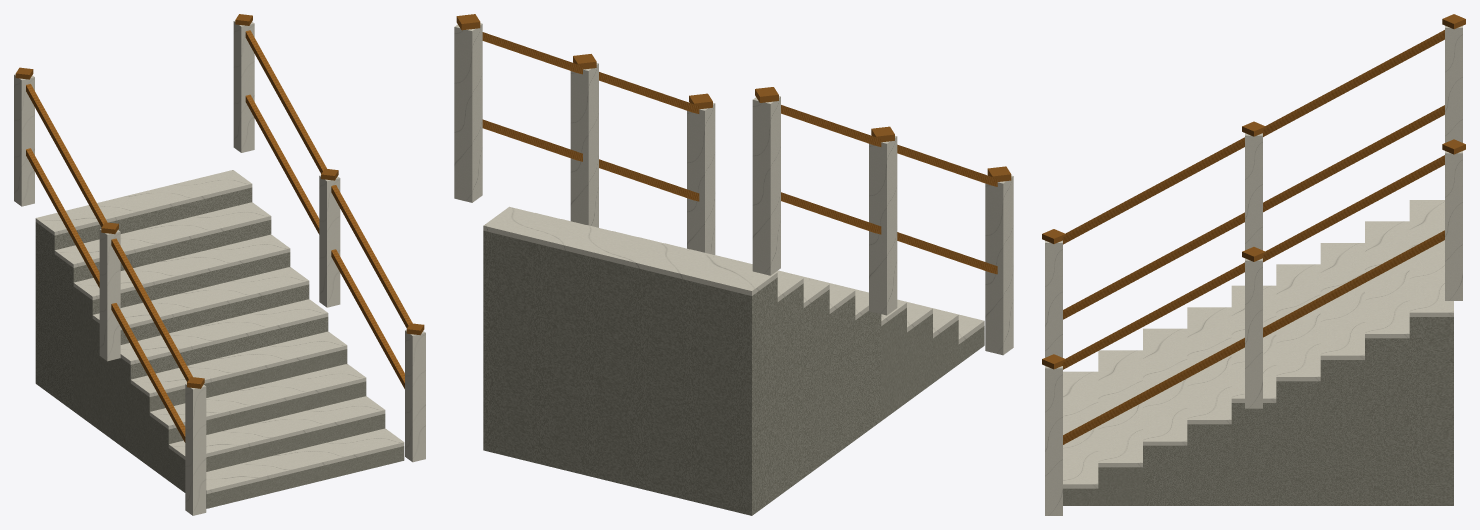
3 views of the same model, side by side, from view 1: azimuth 30°, elevation 25°; view 2: azimuth 150°, elevation 25°; view 3: azimuth 270°, elevation 25° (orthographic). The views are drawn at different scales.
Parts seen in each view (by area): view 1: LOD2__Stone stair tread and riser.008, LOD2__Stone stair tread and riser.007, LOD2__Stone stair tread and riser.006, LOD2__Stone stair tread and riser.004, LOD2__Stone stair tread and riser.005, LOD2__Replaceable marble tread, LOD2__Replaceable marble tread.008, LOD2__Replaceable marble tread.003, LOD2__Replaceable marble tread.004, LOD2__Replaceable marble tread.001, LOD2__Stone stair tread and riser.003, LOD2__Replaceable marble tread.002 (+16 smaller); view 2: LOD2__Stone stair tread and riser.008, LOD2__Replaceable marble tread.008, LOD2__Stone stair tread and riser.007, LOD2__Outside-route guard post.005, LOD2__Outside-route guard post.002, LOD2__Outside-route guard post, LOD2__Outside-route guard post.001, LOD2__Stone stair tread and riser.006, LOD2__Outside-route guard post.004, LOD2__Outside-route guard post.003, LOD2__Stone stair tread and riser.005, LOD2__Stone stair tread and riser.004 (+13 smaller); view 3: LOD2__Stone stair tread and riser.008, LOD2__Stone stair tread and riser.007, LOD2__Stone stair tread and riser.006, LOD2__Stone stair tread and riser.005, LOD2__Replaceable marble tread.007, LOD2__Replaceable marble tread.003, LOD2__Replaceable marble tread.001, LOD2__Replaceable marble tread.002, LOD2__Replaceable marble tread.005, LOD2__Replaceable marble tread.006, LOD2__Stone stair tread and riser.004, LOD2__Replaceable marble tread.008 (+16 smaller).
Part boxes in pixels (box(x1,y1,x2,y2)): LOD2__Stone stair tread and riser.008: box(35, 187, 252, 397); LOD2__Stone stair tread and riser.007: box(54, 220, 271, 410); LOD2__Stone stair tread and riser.006: box(73, 252, 290, 424); LOD2__Stone stair tread and riser.004: box(111, 317, 328, 452); LOD2__Stone stair tread and riser.005: box(92, 284, 309, 438); LOD2__Replaceable marble tread: box(206, 428, 404, 493); LOD2__Replaceable marble tread.008: box(35, 170, 252, 235); LOD2__Replaceable marble tread.003: box(130, 331, 347, 396); LOD2__Replaceable marble tread.004: box(120, 299, 328, 364); LOD2__Replaceable marble tread.001: box(168, 396, 385, 459); LOD2__Stone stair tread and riser.003: box(130, 349, 347, 466); LOD2__Replaceable marble tread.002: box(149, 363, 366, 429); LOD2__Stone stair tread and riser.008: box(483, 230, 777, 515); LOD2__Replaceable marble tread.008: box(483, 206, 777, 295); LOD2__Stone stair tread and riser.007: box(777, 283, 803, 496); LOD2__Outside-route guard post.005: box(454, 23, 482, 202); LOD2__Outside-route guard post.002: box(752, 96, 780, 275); LOD2__Outside-route guard post: box(985, 175, 1013, 355); LOD2__Outside-route guard post.001: box(869, 136, 897, 315); LOD2__Stone stair tread and riser.006: box(803, 289, 829, 477); LOD2__Outside-route guard post.004: box(570, 63, 598, 227); LOD2__Outside-route guard post.003: box(687, 103, 715, 254); LOD2__Stone stair tread and riser.005: box(829, 296, 855, 458); LOD2__Stone stair tread and riser.004: box(855, 310, 881, 439); LOD2__Stone stair tread and riser.008: box(1409, 317, 1453, 505); LOD2__Stone stair tread and riser.007: box(1365, 338, 1409, 505); LOD2__Stone stair tread and riser.006: box(1320, 360, 1364, 505); LOD2__Stone stair tread and riser.005: box(1276, 381, 1320, 505); LOD2__Replaceable marble tread.007: box(1365, 221, 1409, 338); LOD2__Replaceable marble tread.003: box(1187, 307, 1231, 424); LOD2__Replaceable marble tread.001: box(1098, 350, 1142, 467); LOD2__Replaceable marble tread.002: box(1143, 328, 1187, 445); LOD2__Replaceable marble tread.005: box(1276, 264, 1320, 381); LOD2__Replaceable marble tread.006: box(1320, 243, 1364, 359); LOD2__Stone stair tread and riser.004: box(1231, 403, 1276, 505); LOD2__Replaceable marble tread.008: box(1409, 200, 1453, 316).
Bounding box in the file's own units: 2.16 × 2.74 × 2.86.
Materials: 3 (3 with a texture image).
